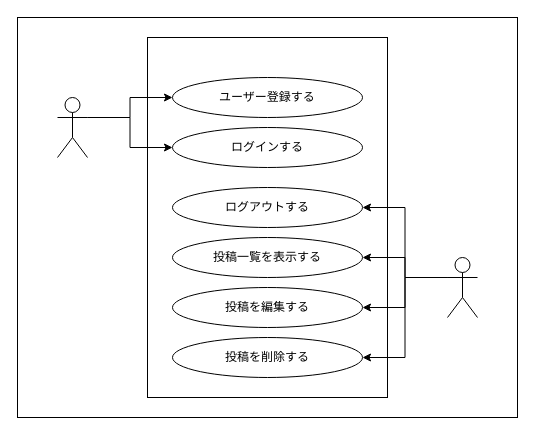
Some shapes in this 535 by 435 pixel diagram are drawn without their labels. Each missing label, with the box of its shape:
投稿アプリ: (146, 36, 388, 398)
未認証ユーザー: (56, 96, 88, 158)
認証済ユーザー: (446, 256, 478, 318)
